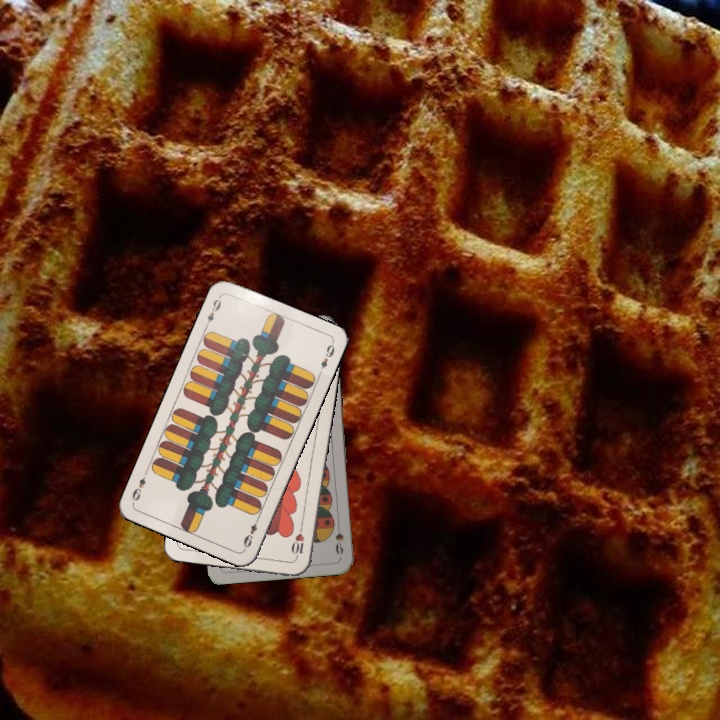E9: (239, 513, 262, 552), (201, 292, 224, 330)
H10: (288, 521, 307, 562)
S9: (331, 518, 346, 557)
